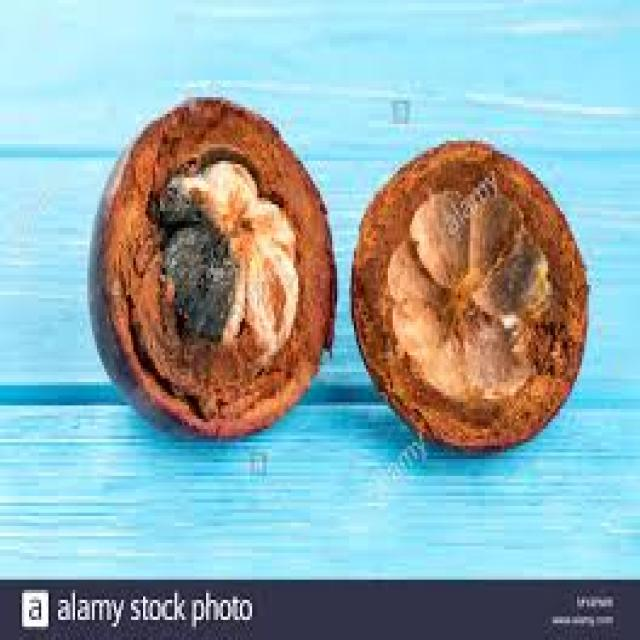biodegradable: (85, 94, 334, 439), (352, 138, 587, 453), (155, 221, 245, 345), (233, 225, 301, 355), (199, 151, 255, 228), (231, 184, 294, 248), (148, 171, 208, 224)
